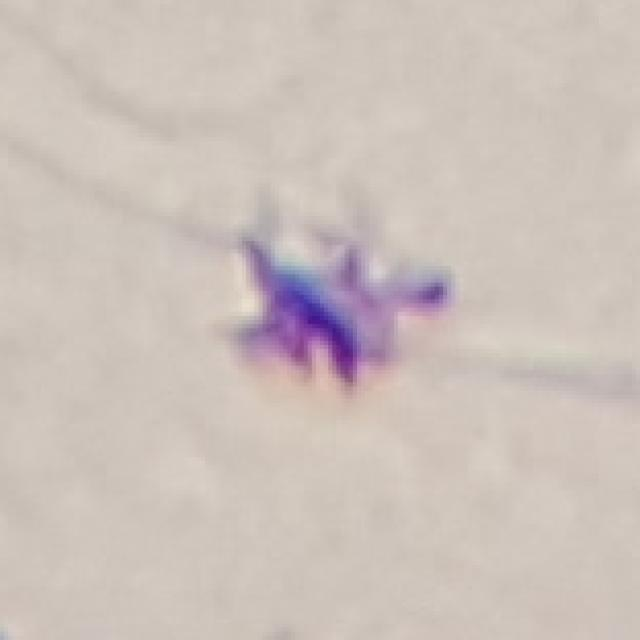non-sperm: (229, 229, 455, 393)
